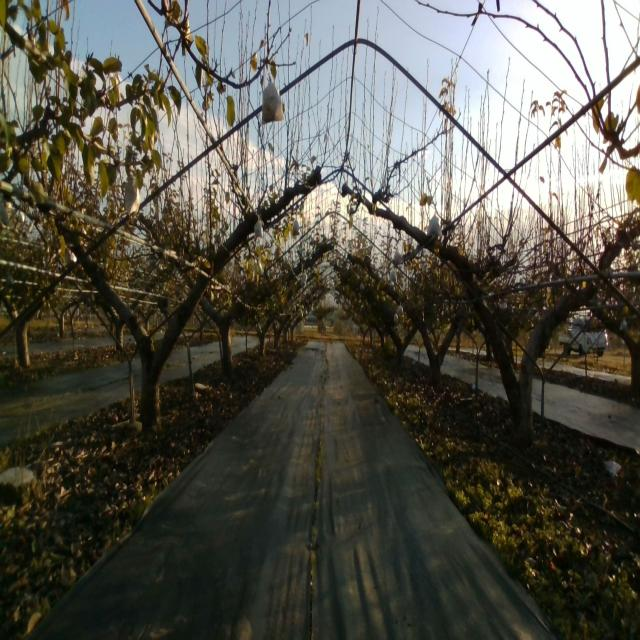pearbags: (261, 73, 285, 124), (123, 188, 141, 216), (427, 212, 442, 239)
